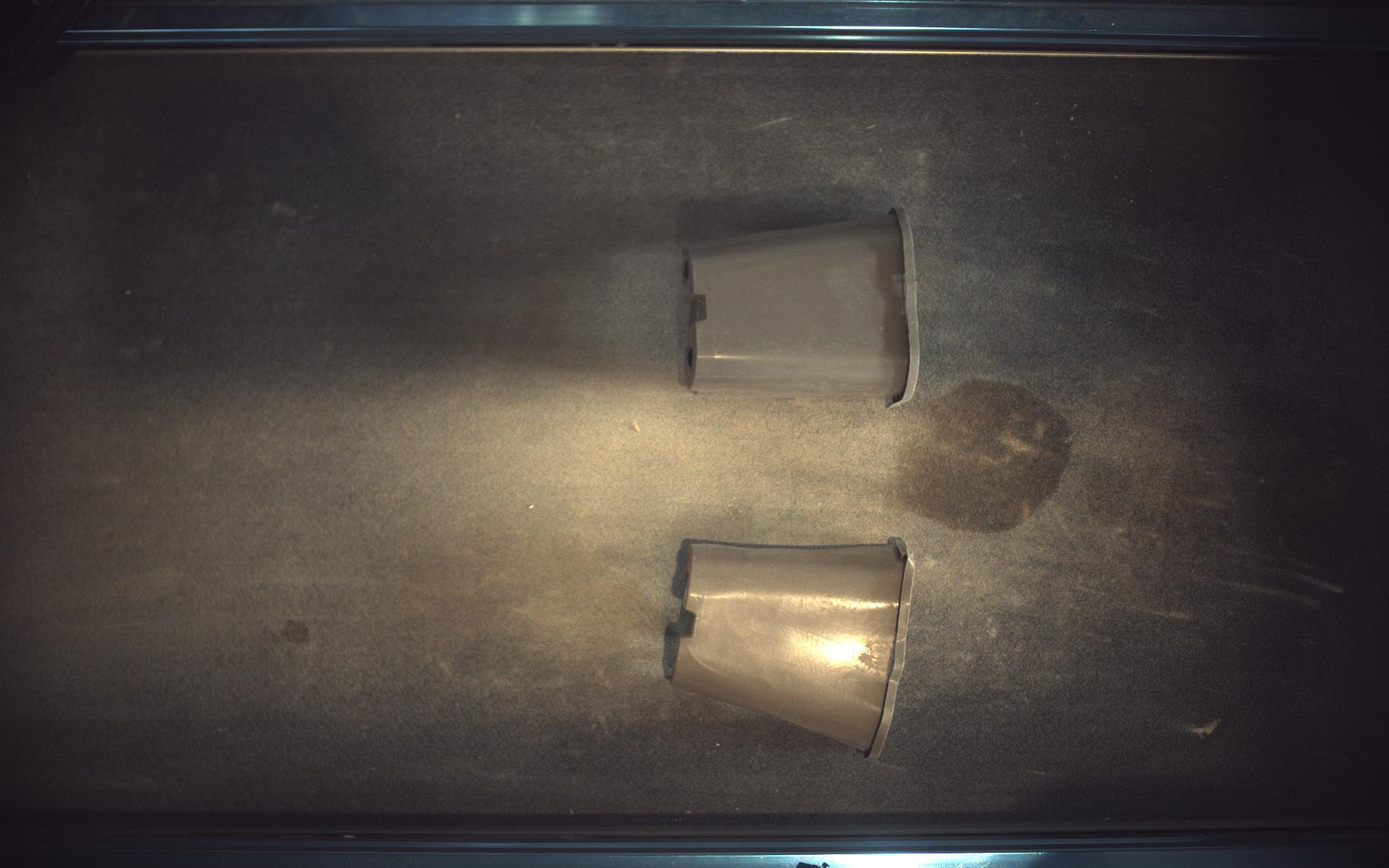general_w: (666, 538, 916, 760), (687, 207, 922, 405)
